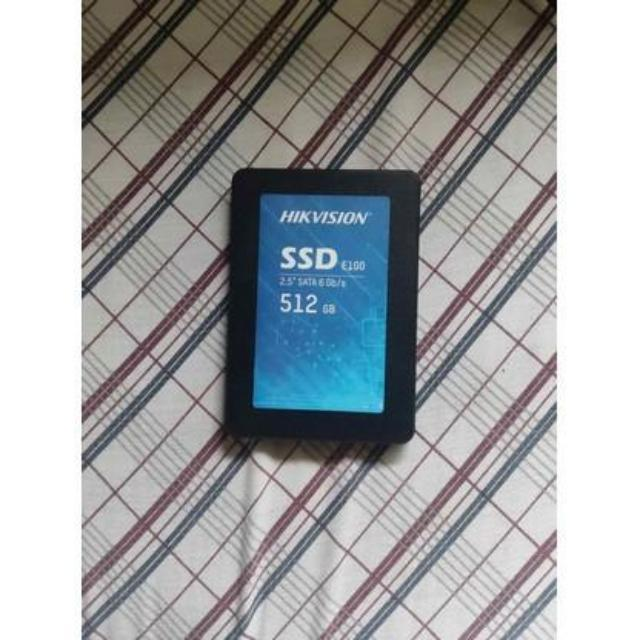DISK: (220, 163, 426, 451)
